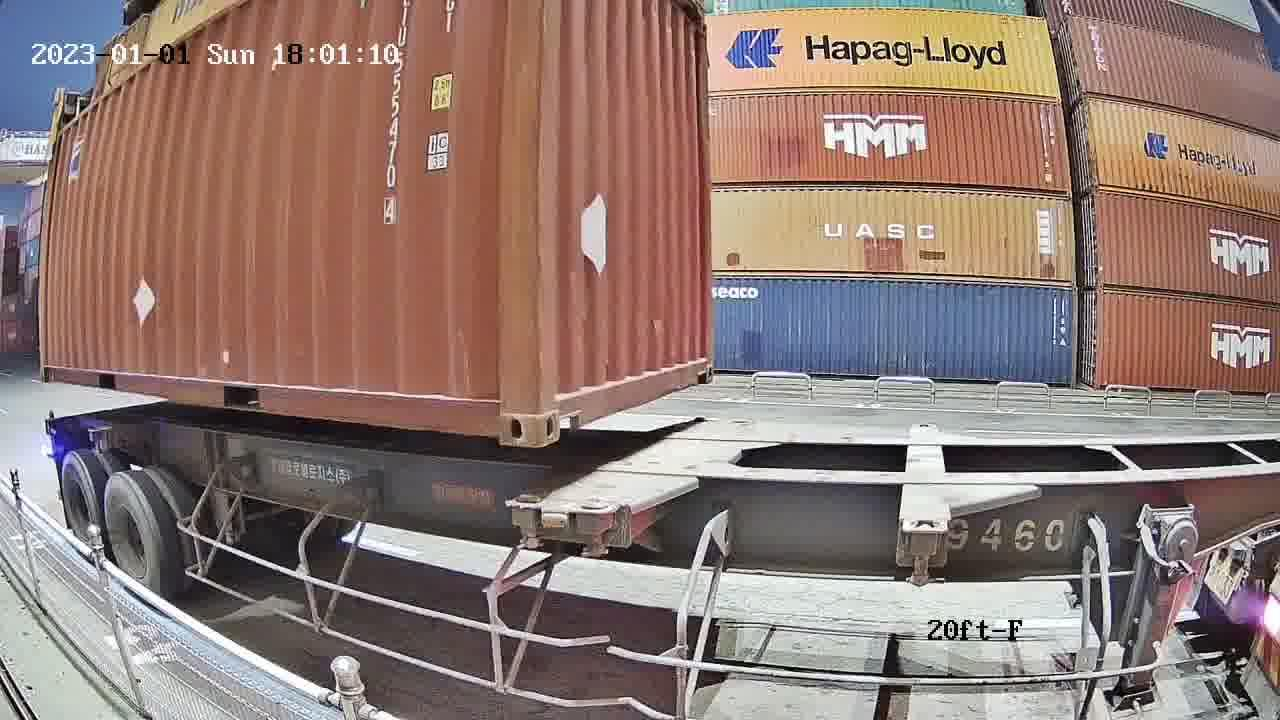Chassis: (510, 419, 710, 506), (578, 419, 753, 511)
Cone: (577, 500, 620, 566), (507, 493, 545, 552)
Hole_L: (538, 369, 585, 447)
Hole_R: (474, 386, 539, 447), (691, 349, 714, 384)
Tire: (105, 476, 162, 597), (62, 453, 101, 549)
